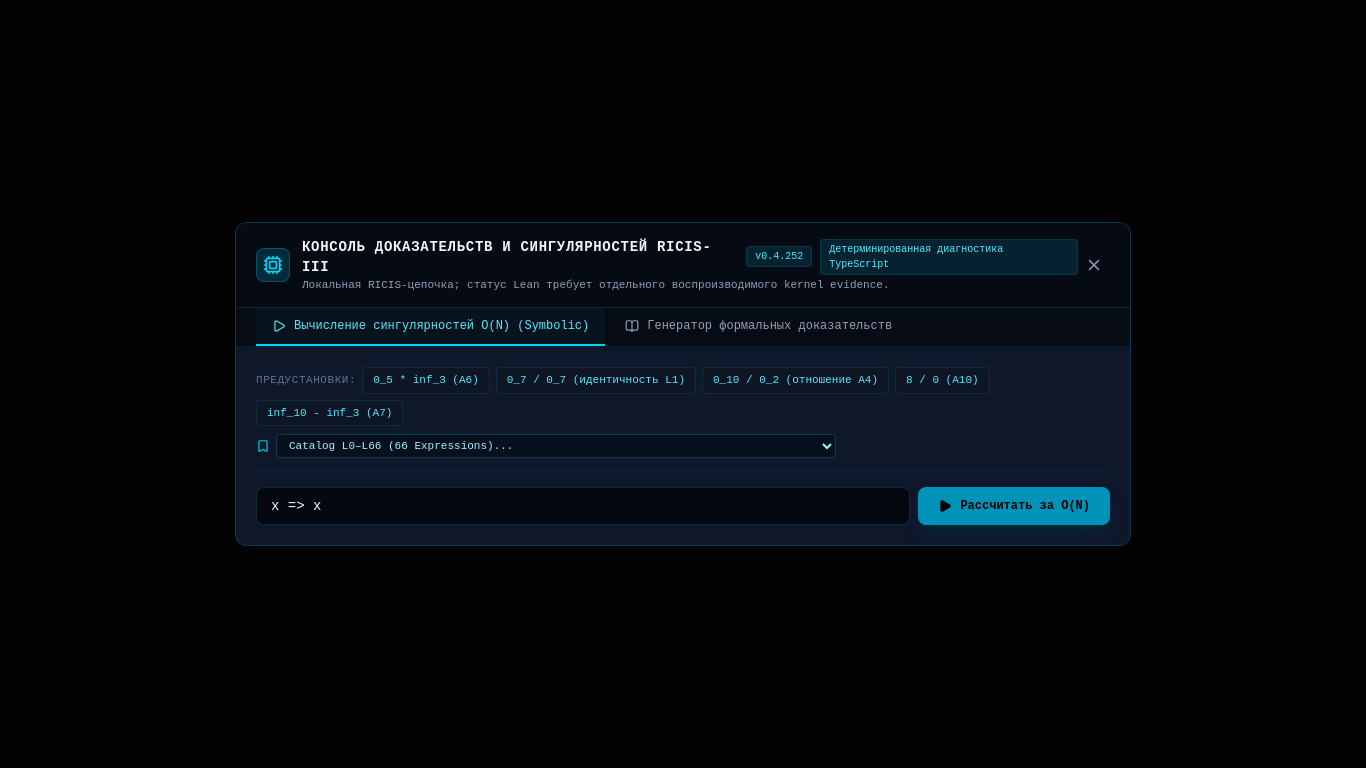
Scenario: RicisProofConsoleModal authoritative proof transport › renders a safe recovery resource key without legacy proof fallback on Core failure
Click the button "Генератор формальных доказательств".
click(759, 327)  # box [609, 308, 908, 346]
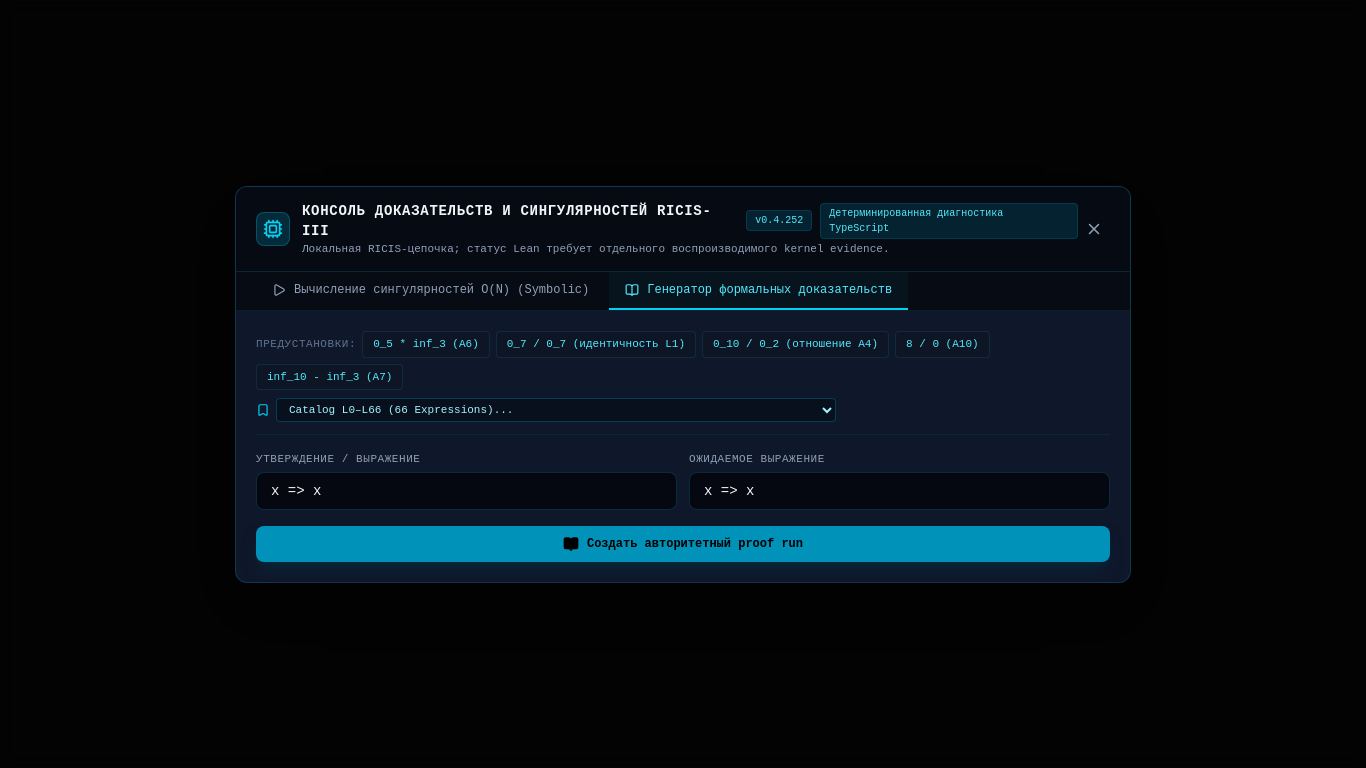
Click the button with test id "proof-console-create-run".
click(683, 544)  # box [256, 526, 1110, 562]
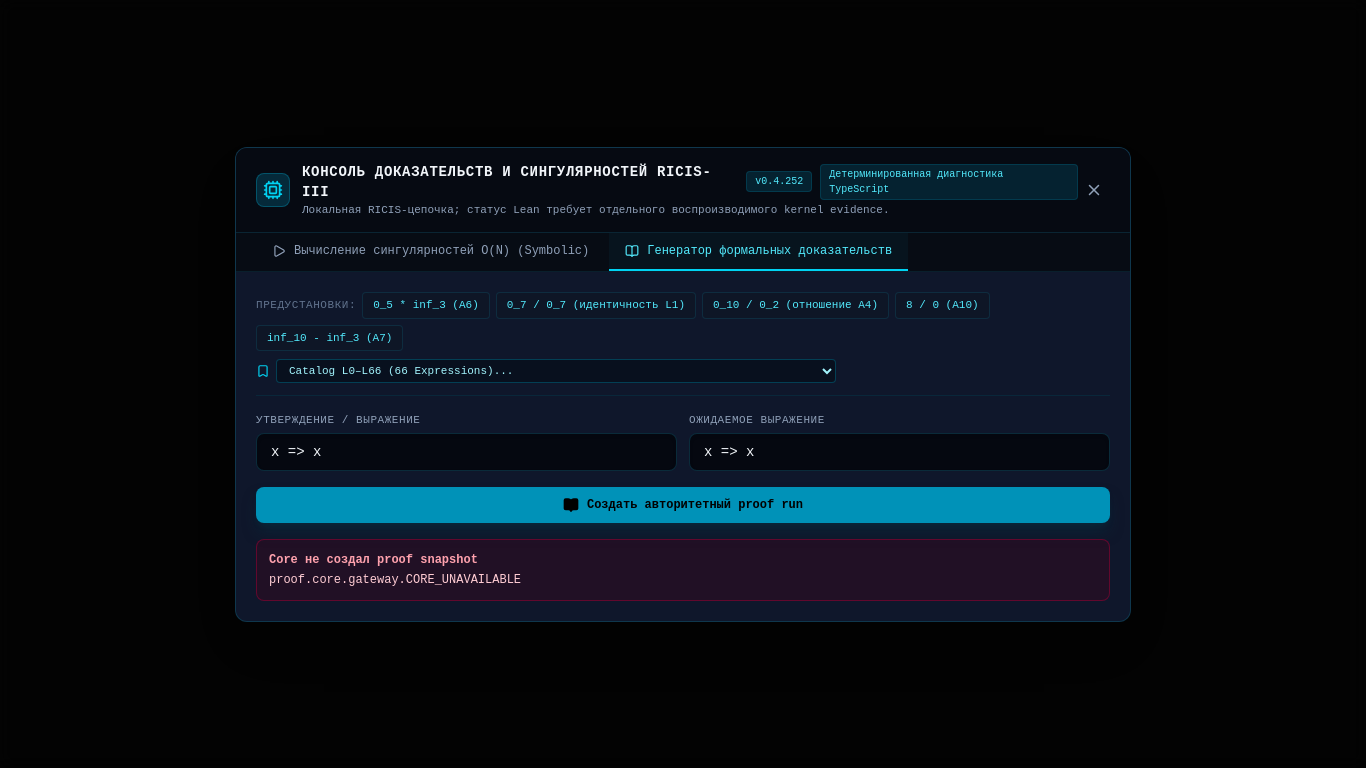
Result: the text "proof.core.gateway.CORE_UNAVAILABLE" is shown at [269, 572, 521, 586]
